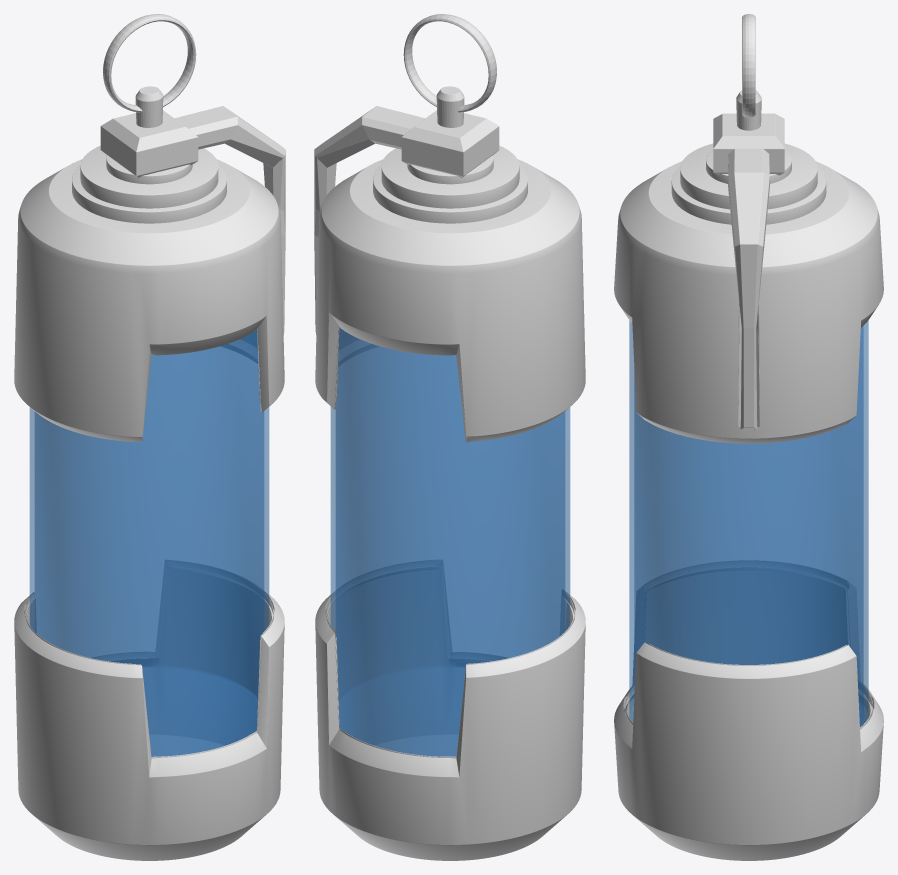
The model's file is Nade_Body_V1.fbx.
3 renders of one model, left to right at view 1: azimuth 30°, elevation 25°; view 2: azimuth 150°, elevation 25°; view 3: azimuth 270°, elevation 25°, orthographic.
Visible parts, largest first — view 1: Grenade_Body; view 2: Grenade_Body; view 3: Grenade_Body.
Boxes of the visible parts, bbox=[...] form: Grenade_Body: bbox=[14, 14, 285, 860]; Grenade_Body: bbox=[314, 14, 585, 860]; Grenade_Body: bbox=[614, 14, 883, 860].
Size of the model in its own units: 0.7397 by 2.26 by 0.6918.
